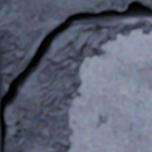brick: (68, 29, 151, 151), (0, 44, 1, 98), (0, 127, 1, 151)
crack: (0, 0, 151, 151)
